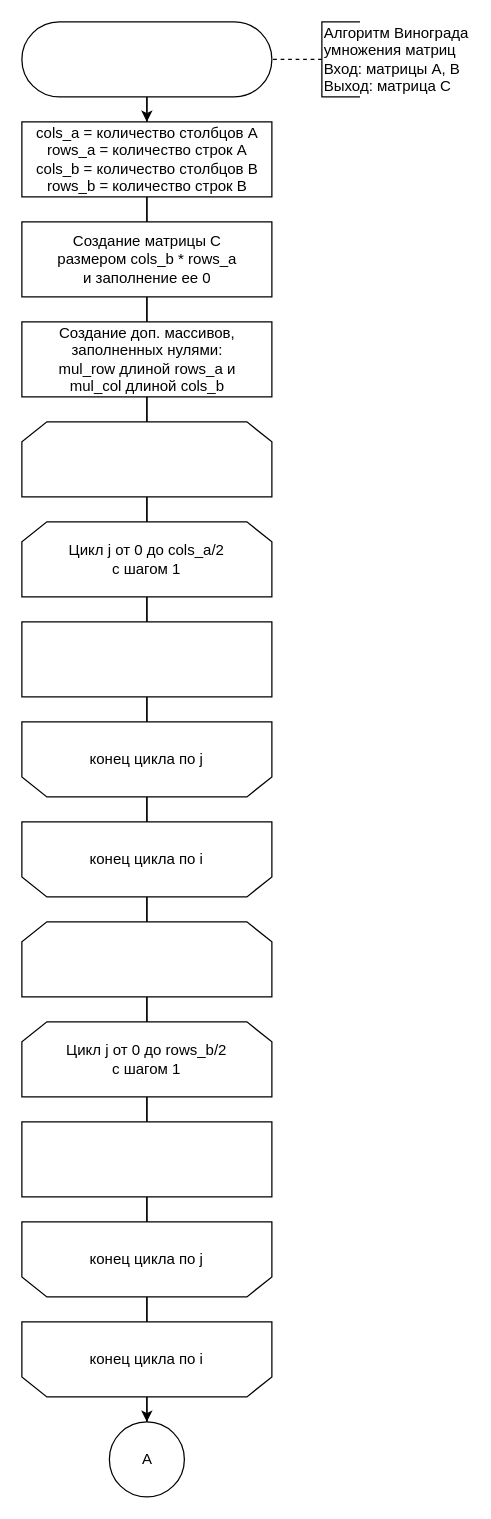
Some shapes in this 491 by 1519 pixel diagram are drawn without their labels. The centre of each missing label's shape, as x and y in pixels:
"mul_col[i] = mul_col[i] + + B[2 * j][i] * B[2 * j + 1][i]" goes at [146,1159].
"mul_row[i] = mul_row[i] + + A[i][2 * j] * A[i][2 * j + 1]" goes at [146,659].
"Начало" goes at [146,59].
"Цикл i от 0 до cols_b с шагом 1" goes at [146,959].
"Цикл i от 0 до rows_a с шагом 1" goes at [146,459].
